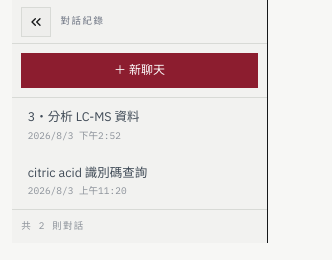
Test: Sidebar › collapses to a rail and expands again
Expected: the text "對話紀錄" is shown, [60,14,104,29]
Click the button named "收合／展開側欄": [36, 22] box [21,6,51,36]
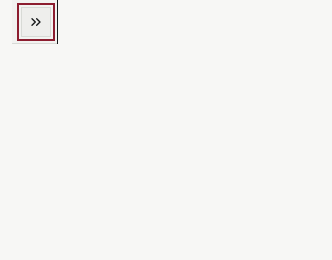
Result: the text "對話紀錄" is gone
